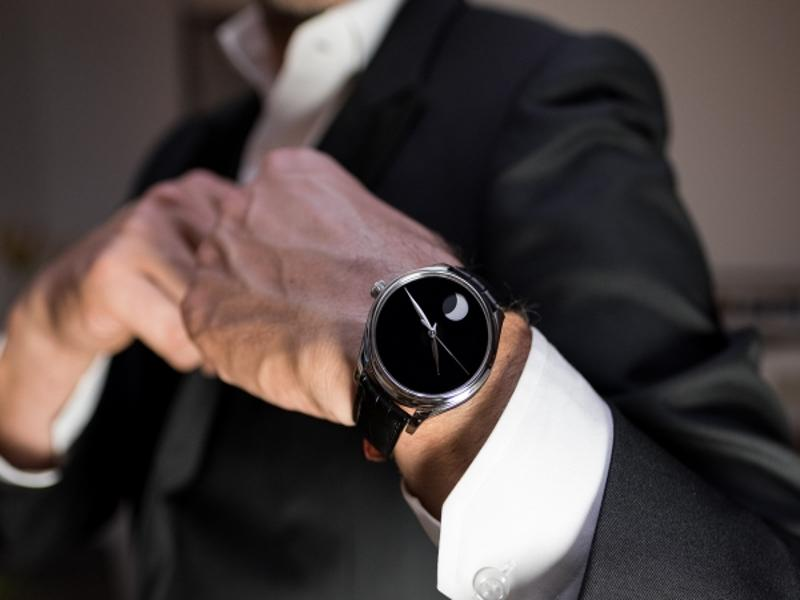watch: (347, 262, 529, 463)
